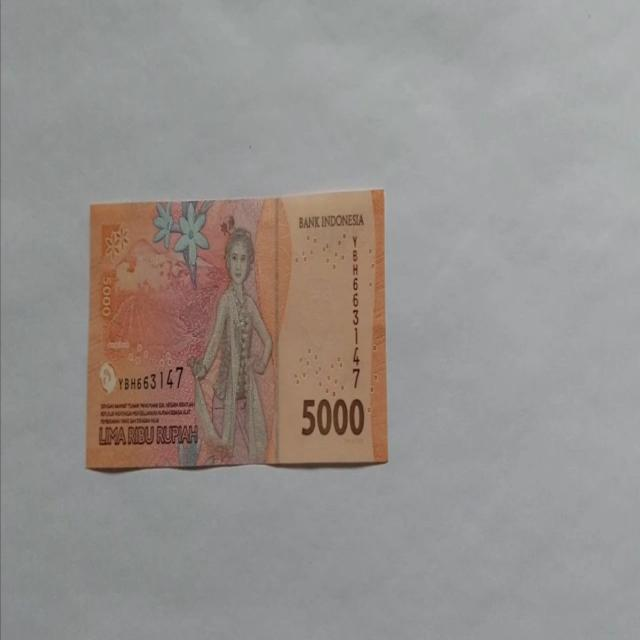lima ribu rupiah: (85, 188, 388, 472), (184, 226, 274, 466)
